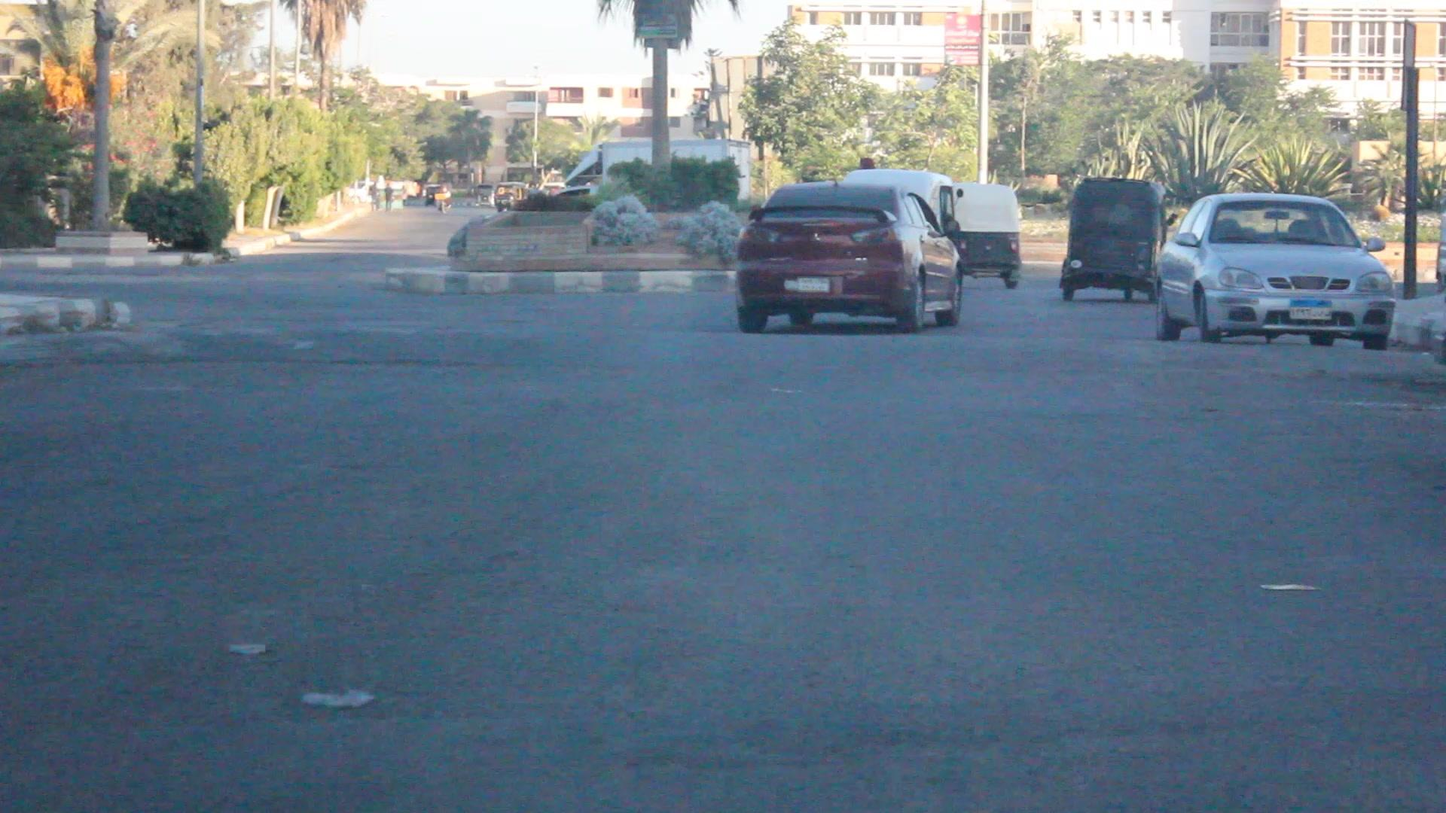Bump: (60, 331, 1446, 403)
